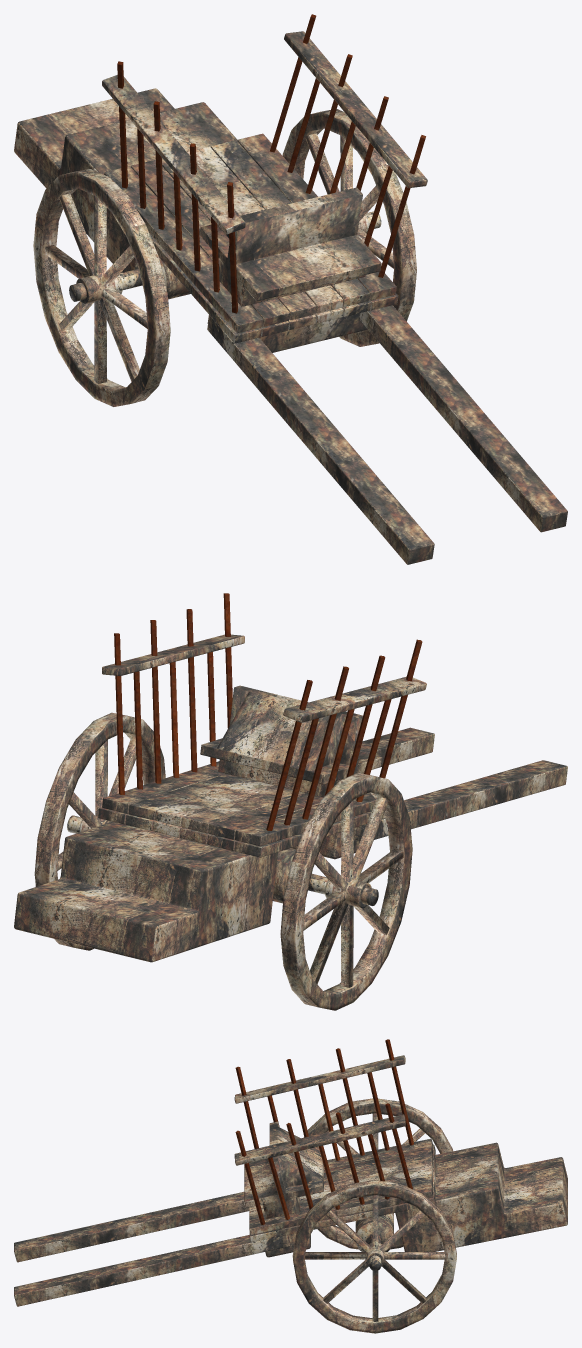
The model's file is uremi.glb.
The picture shows the model from 3 angles, top to bottom: view 1: azimuth 30°, elevation 25°; view 2: azimuth 150°, elevation 25°; view 3: azimuth 270°, elevation 25°; orthographic projection. The views are drawn at different scales.
Visible parts, largest first — view 1: Cart1, MetalBars; view 2: Cart1, MetalBars; view 3: Cart1, MetalBars.
Boxes of the visible parts, box(x1,y1,x2,y2) form: Cart1: box(14, 31, 567, 564); MetalBars: box(117, 14, 425, 313); Cart1: box(14, 634, 567, 1010); MetalBars: box(114, 593, 422, 830); Cart1: box(14, 1055, 567, 1333); MetalBars: box(235, 1039, 413, 1224).
Bounding box in the file's own units: 1.21 × 1.22 × 2.8.
2 materials, 2 textured.
